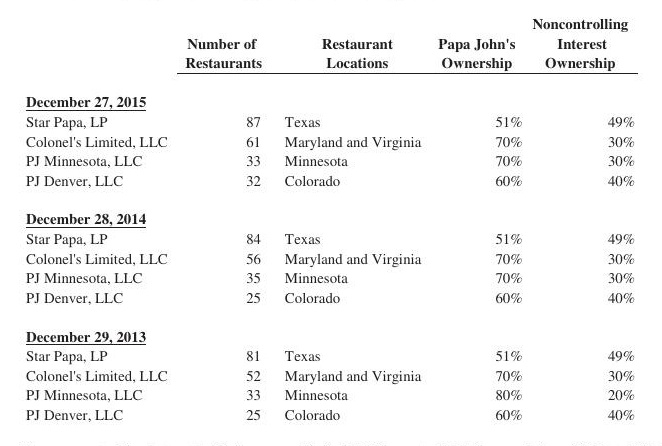table: (0, 0, 662, 446)
